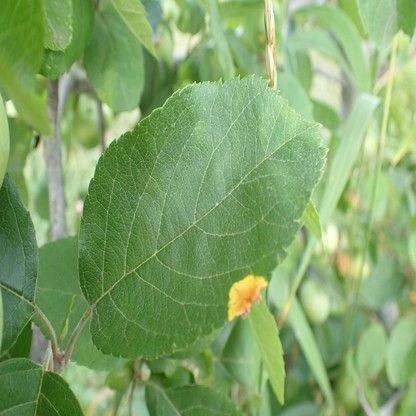rust: (228, 274, 267, 319)
